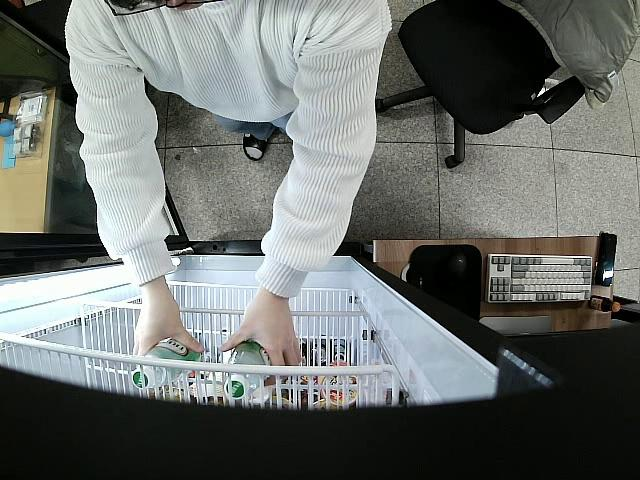00_hand: (220, 293, 300, 368), (133, 296, 203, 363)
18_trevi: (132, 339, 203, 390), (225, 342, 270, 400)
